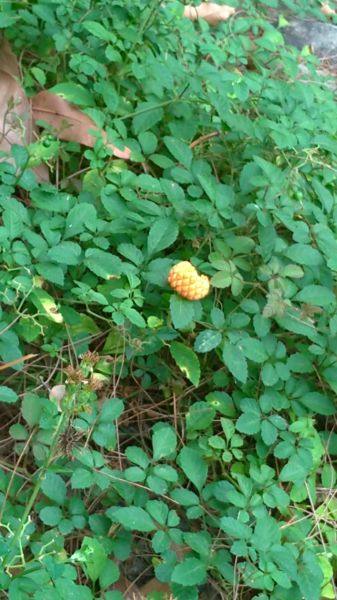eggs: (163, 258, 215, 304)
